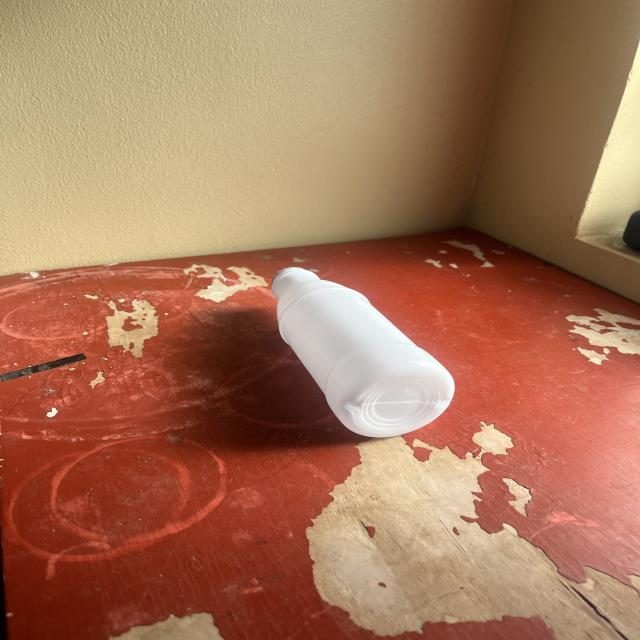HDPE_Bottle: (272, 268, 454, 437)
